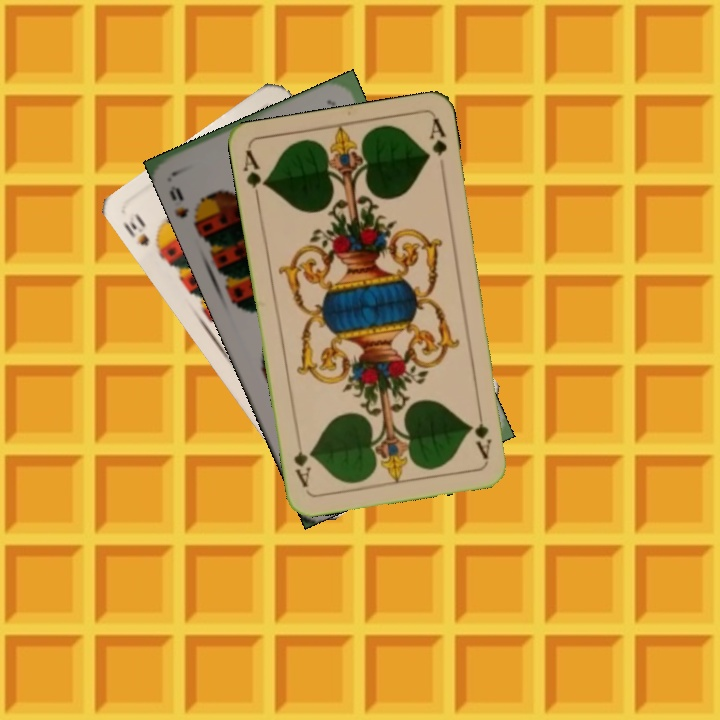GA: (239, 146, 270, 206), (470, 403, 494, 462)
S10: (118, 208, 166, 259)
S9: (165, 182, 206, 231)
